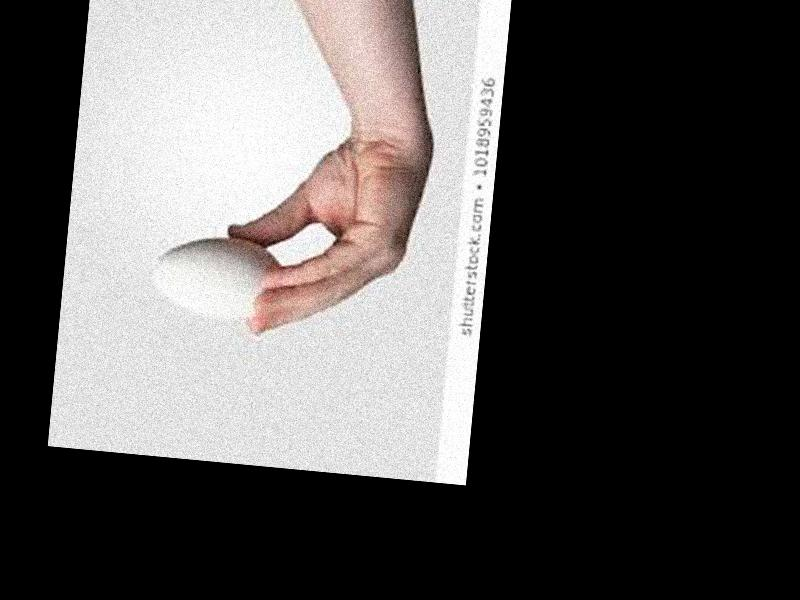Eggs: (146, 230, 284, 327)
